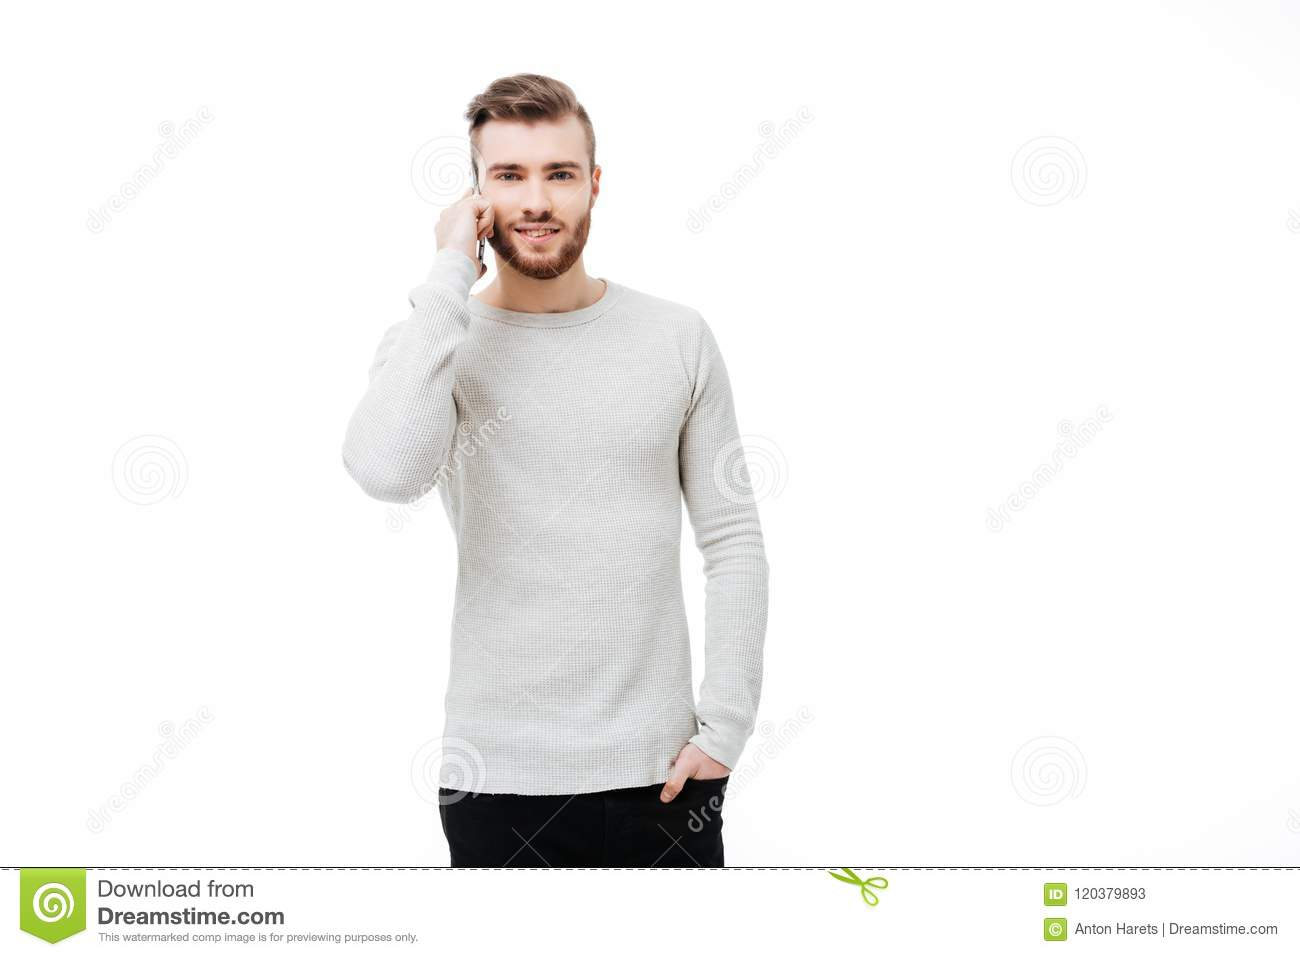phone: (458, 161, 495, 256)
talk: (439, 155, 590, 286)
